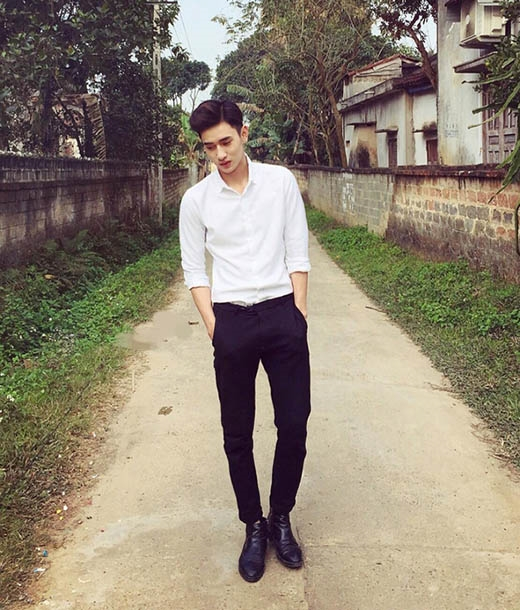person: (178, 102, 312, 581)
